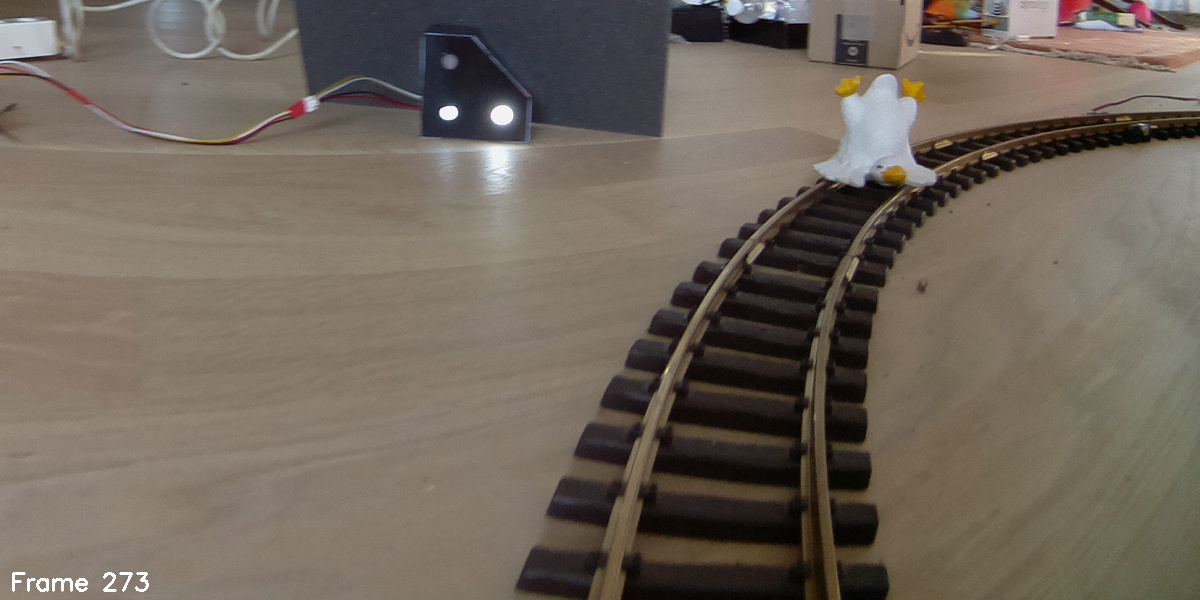Ente: (812, 73, 941, 195)
Halt: (422, 30, 530, 143)
